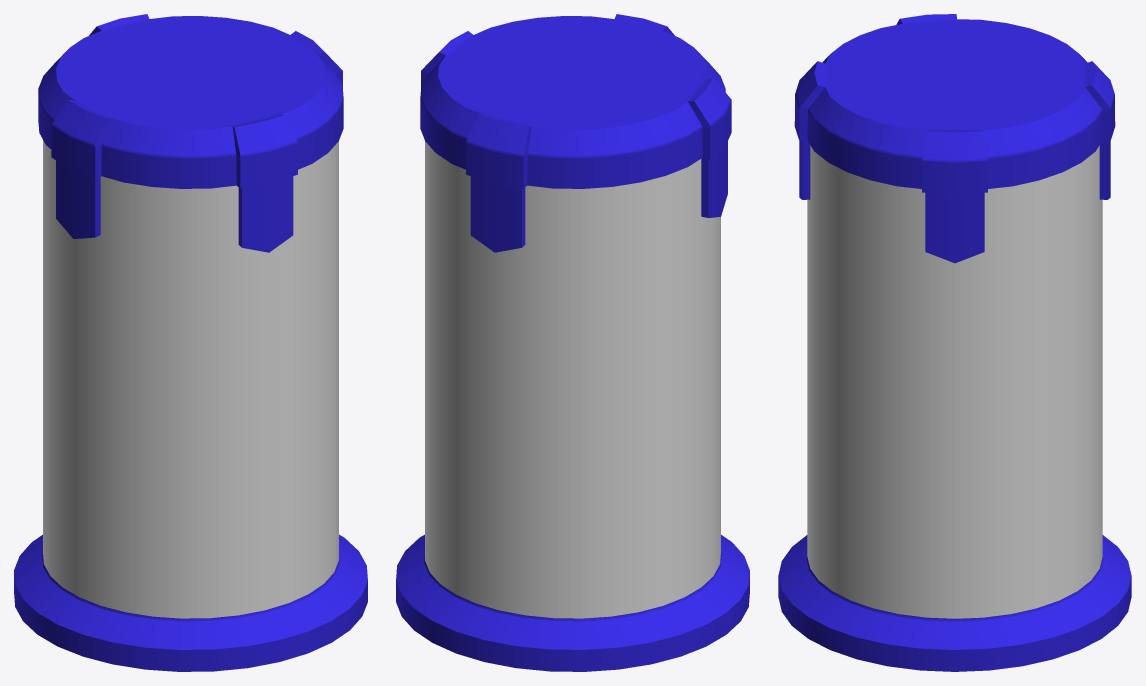
Rendered from SM_Tubo.fbx.
The picture shows the model from 3 angles, left to right: view 1: azimuth 30°, elevation 25°; view 2: azimuth 150°, elevation 25°; view 3: azimuth 270°, elevation 25°; orthographic projection.
Visible parts, largest first — view 1: SM_Tubo; view 2: SM_Tubo; view 3: SM_Tubo.
Part boxes in pixels (x1,y1,x2,y2): SM_Tubo: (14,14,367,671); SM_Tubo: (396,14,749,671); SM_Tubo: (778,14,1131,671).
Size of the model in its own units: 262 by 262 by 429.
